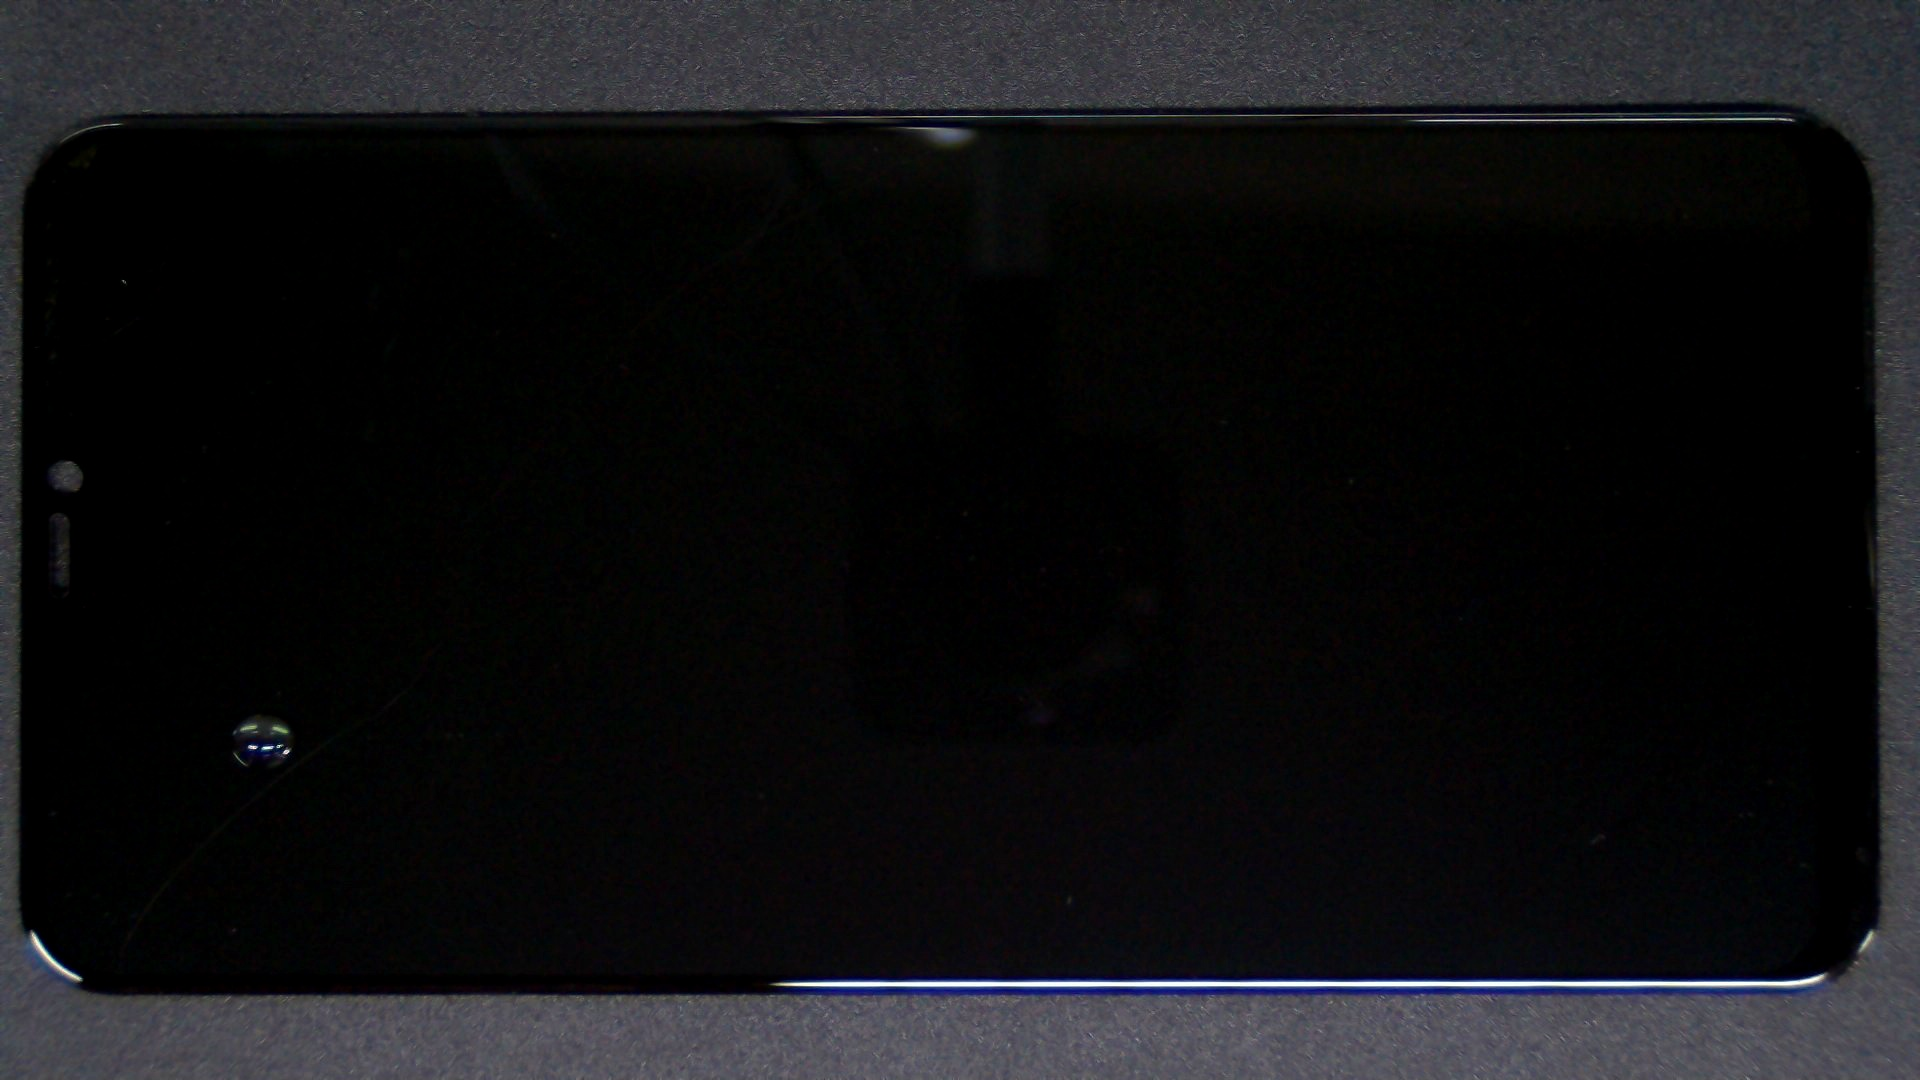oil: (131, 356, 392, 1068)
